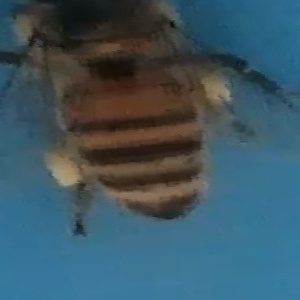bee: (2, 1, 297, 245)
